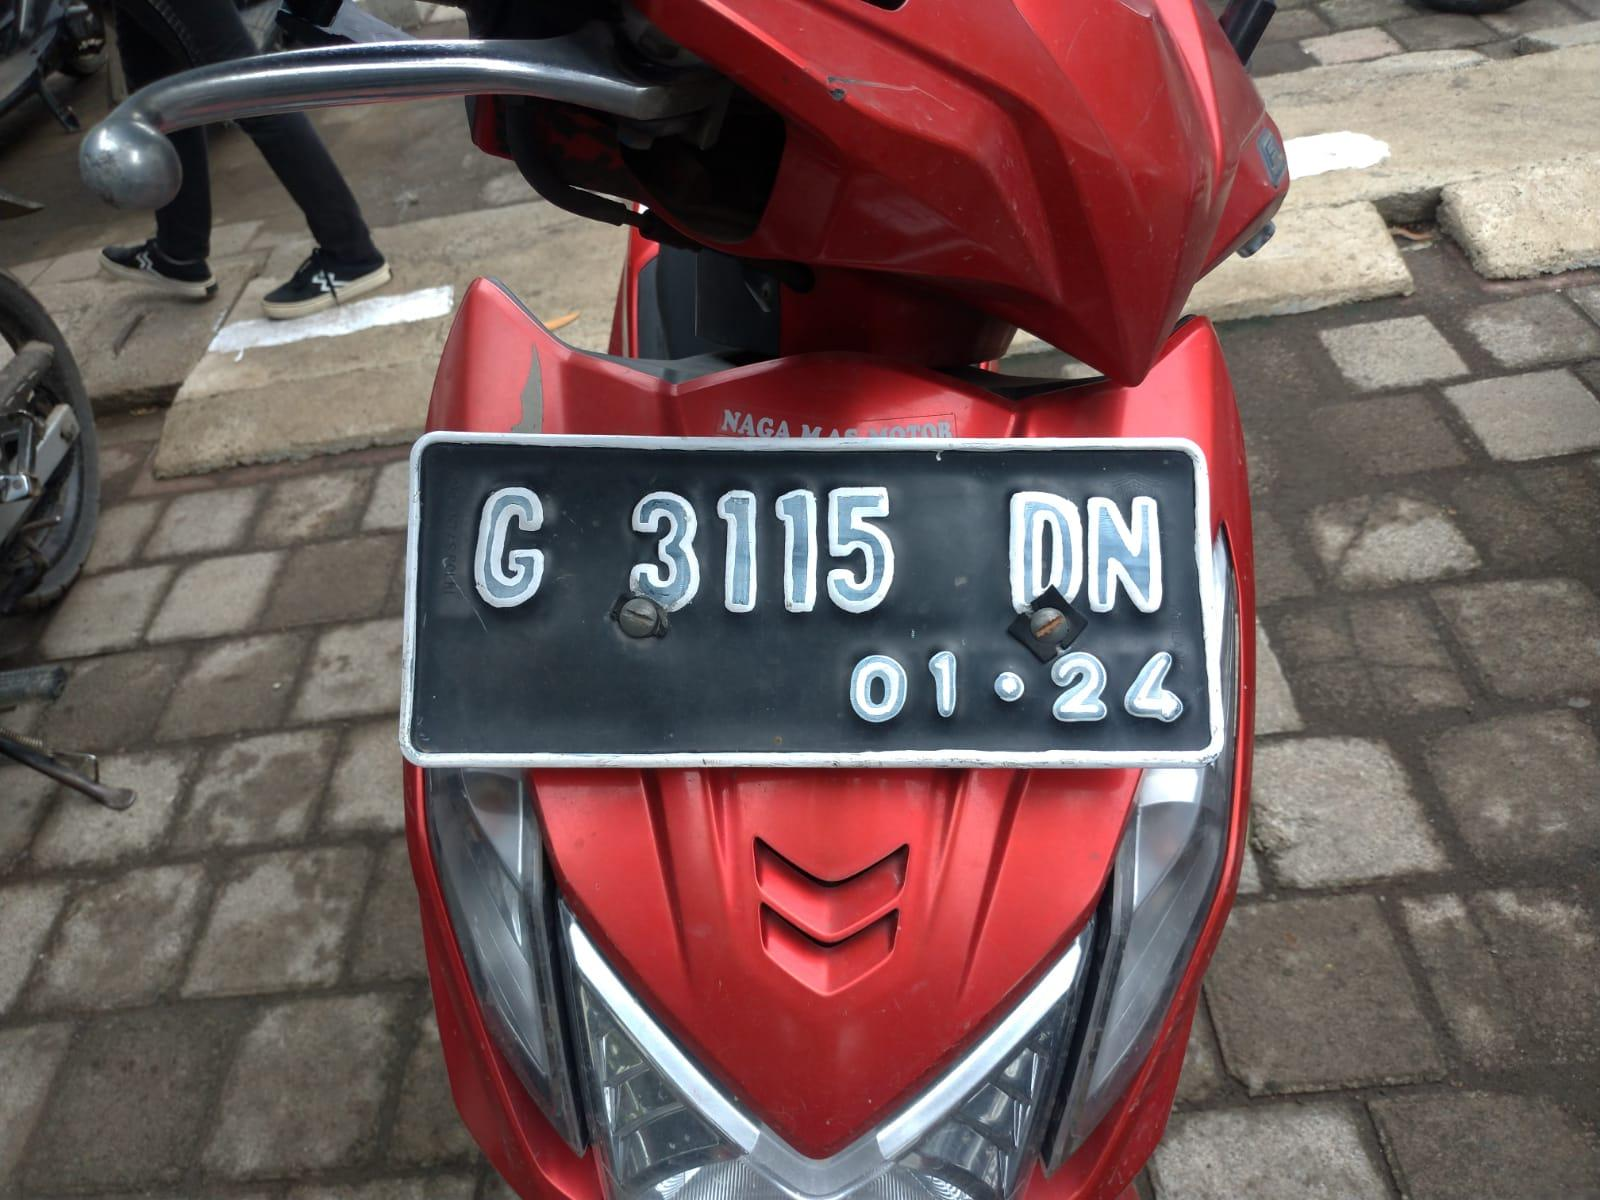plat: (401, 431, 1225, 769)
